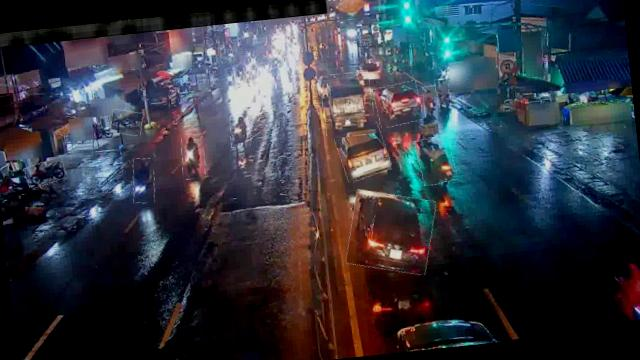Bike: (415, 134, 456, 186), (130, 157, 158, 204), (179, 134, 207, 180), (24, 158, 67, 187), (110, 108, 144, 138), (229, 114, 252, 148), (423, 86, 440, 118), (436, 78, 452, 112)
Car: (344, 186, 440, 278), (336, 124, 392, 182), (374, 82, 423, 128)
Truck: (321, 70, 376, 139)
